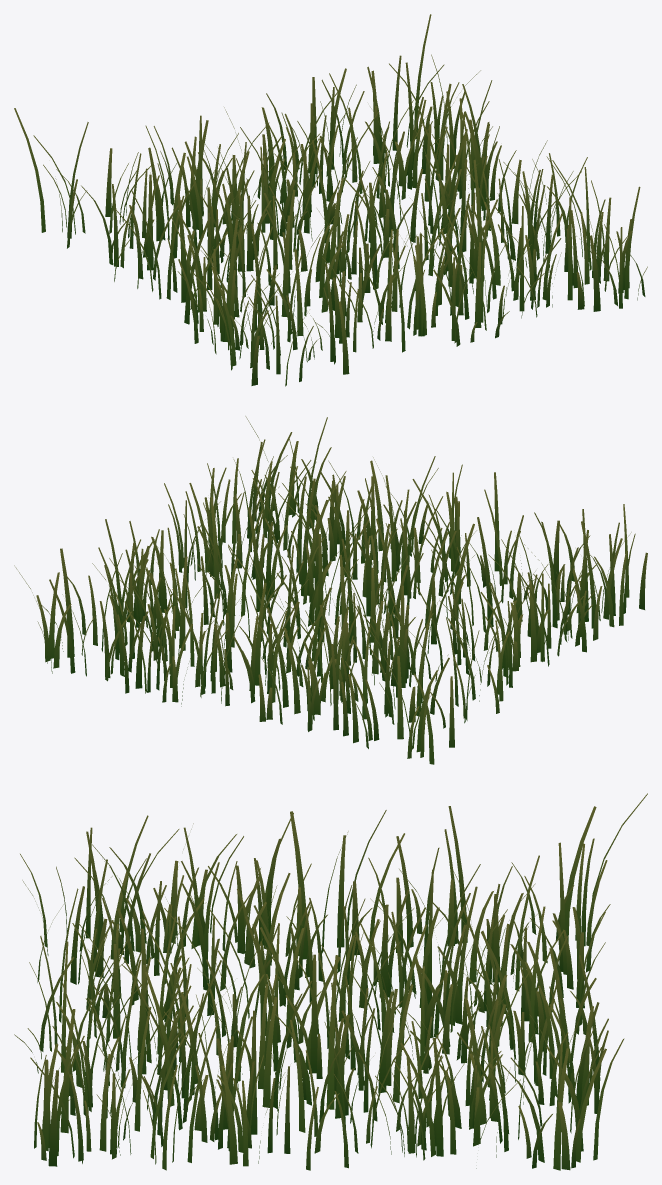
The model's file is Turf_Wild_v1.glb.
3 views of the same model, one above another, from view 1: azimuth 30°, elevation 25°; view 2: azimuth 150°, elevation 25°; view 3: azimuth 270°, elevation 25° (orthographic). The views are drawn at different scales.
Parts seen in each view (by area): view 1: Turf_Wild_v1; view 2: Turf_Wild_v1; view 3: Turf_Wild_v1.
Boxes of the visible parts, box(x1,y1,x2,y2) form: Turf_Wild_v1: box(14, 14, 647, 386); Turf_Wild_v1: box(14, 416, 647, 764); Turf_Wild_v1: box(14, 793, 647, 1170).
Bounding box in the file's own units: 1.33 × 0.3401 × 1.37.
